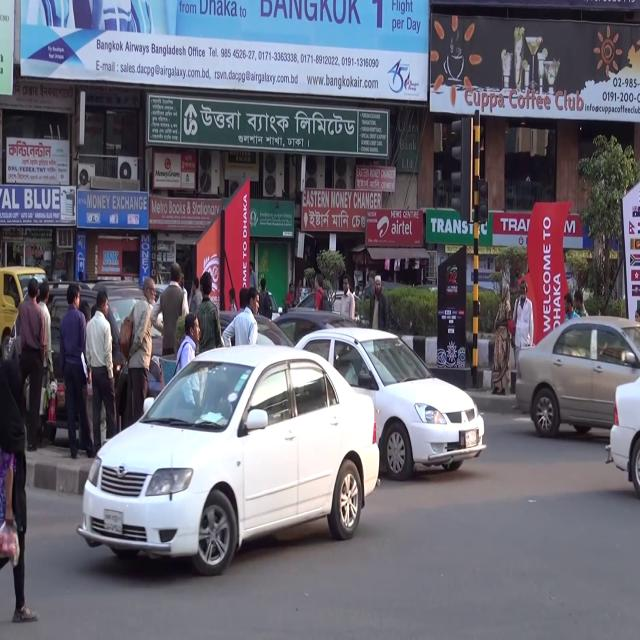silver: (515, 314, 640, 432)
white: (70, 344, 378, 573), (308, 322, 483, 484)
